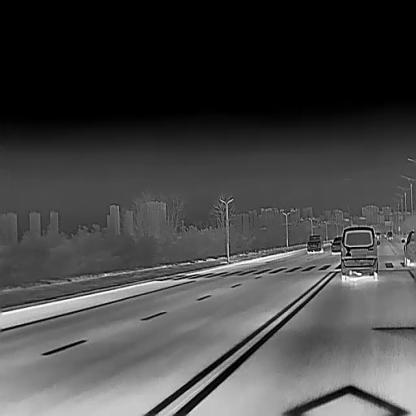car: (339, 225, 380, 280), (400, 228, 416, 265), (306, 233, 324, 254), (328, 236, 343, 254), (374, 232, 382, 240), (386, 231, 393, 240)
